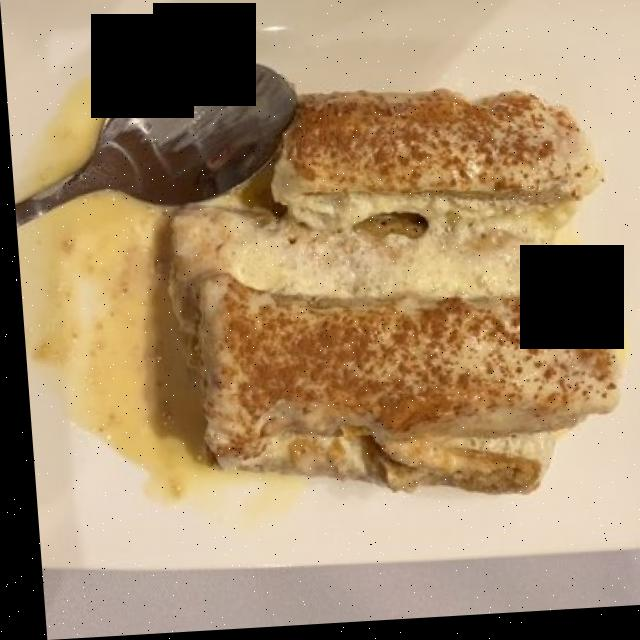tiramisu: (154, 106, 624, 501)
